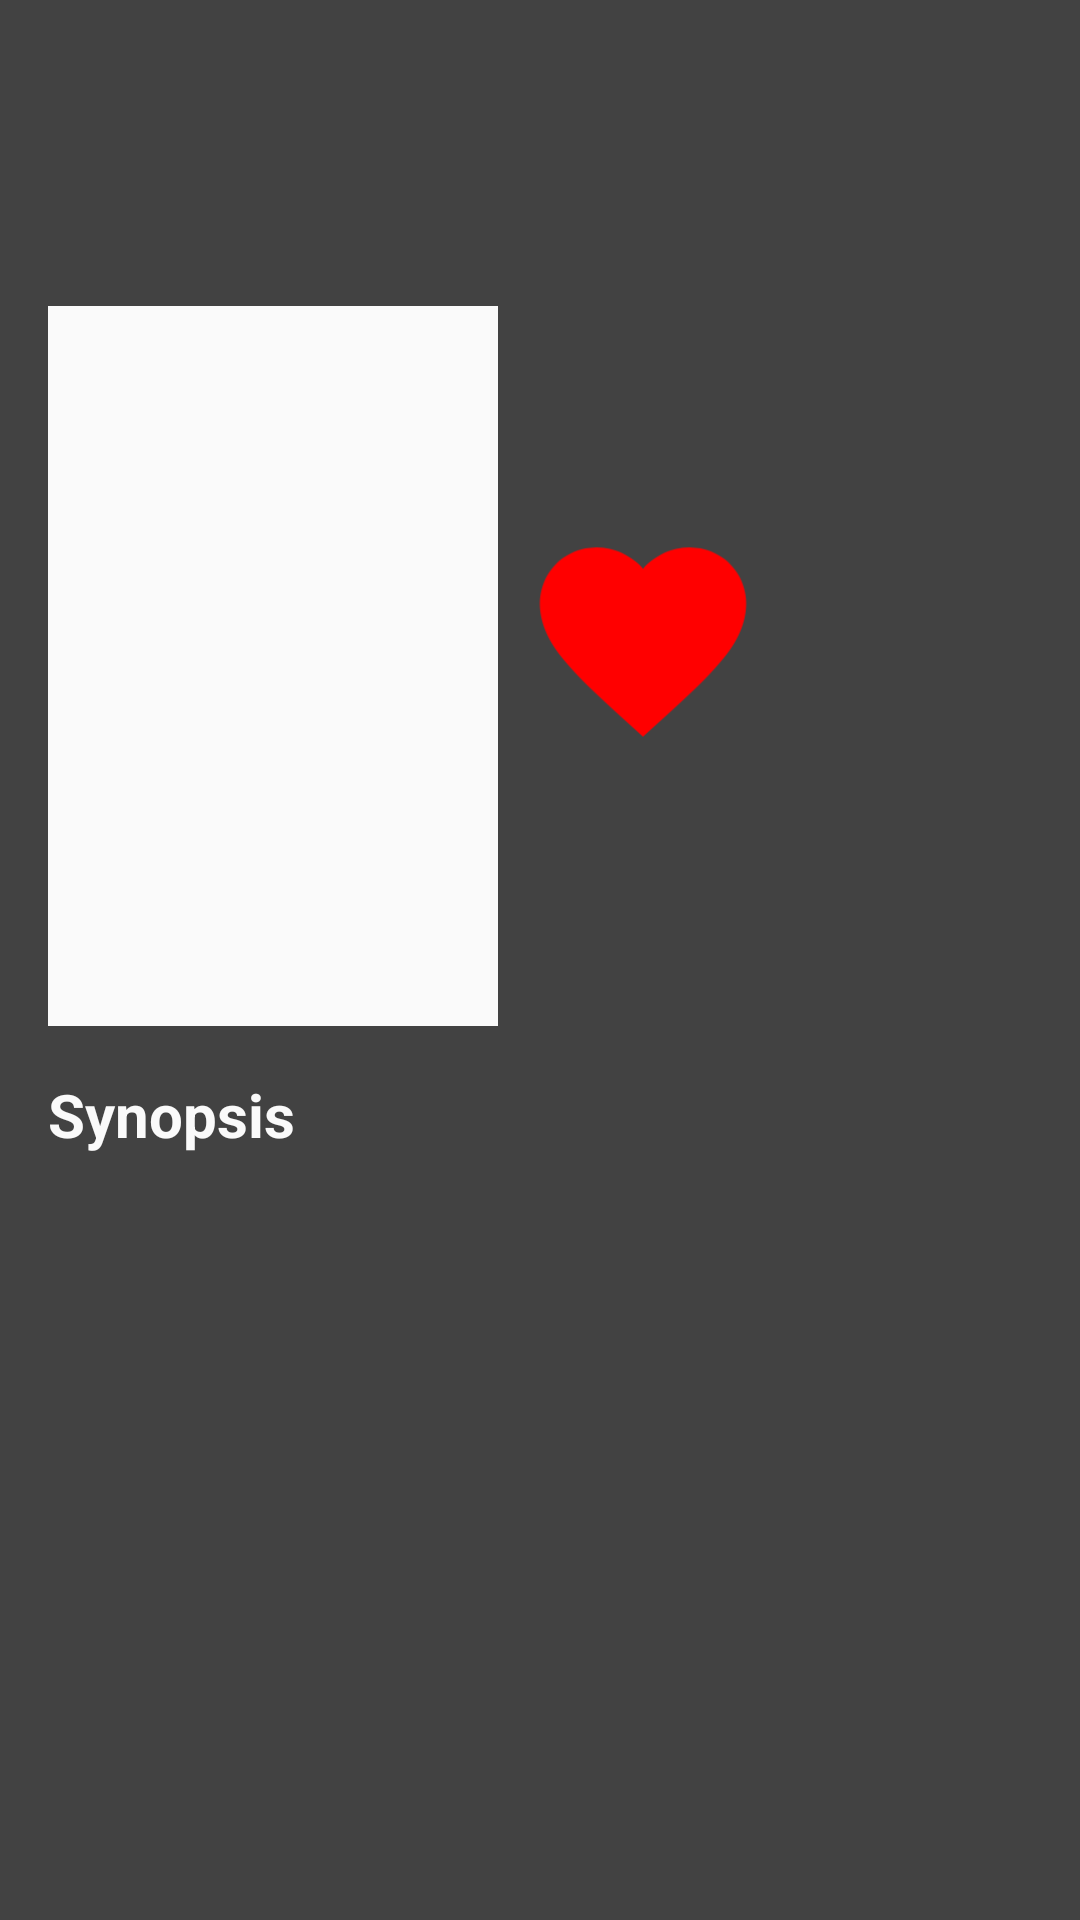

Where to tap for icons on this 1080w x 1920h app screen, as point (x, y):
heart: point (643, 642)
